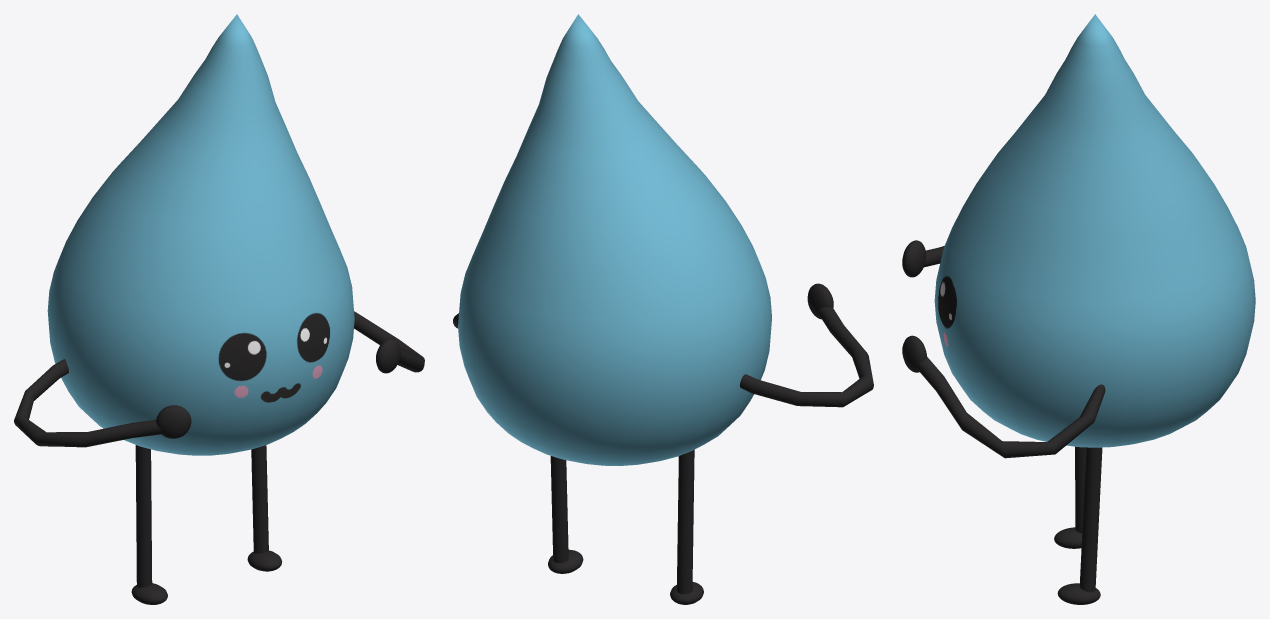
Rendered from ludedks.fbx.
3 views of the same model, side by side, from view 1: azimuth 30°, elevation 25°; view 2: azimuth 150°, elevation 25°; view 3: azimuth 270°, elevation 25° (orthographic). The views are drawn at different scales.
Parts seen in each view (by area): view 1: Sphere, Sphere.003, NogaLewa, NogaPrawa, Sphere.002; view 2: Sphere, Sphere.003, NogaLewa, NogaPrawa; view 3: Sphere, Sphere.002, NogaPrawa, NogaLewa, Sphere.003.
Boxes of the visible parts, x1,y1,x2,y2 form: Sphere: [47, 14, 354, 455]; Sphere.003: [14, 359, 191, 447]; NogaLewa: [131, 445, 167, 604]; NogaPrawa: [247, 445, 282, 571]; Sphere.002: [354, 311, 424, 373]; Sphere: [458, 14, 771, 465]; Sphere.003: [740, 283, 873, 407]; NogaLewa: [670, 450, 703, 604]; NogaPrawa: [548, 456, 583, 573]; Sphere: [934, 14, 1255, 447]; Sphere.002: [902, 335, 1105, 458]; NogaPrawa: [1057, 447, 1102, 604]; NogaLewa: [1054, 446, 1086, 548]; Sphere.003: [902, 240, 944, 277].
Size of the model in its own units: 293 by 400 by 220.
